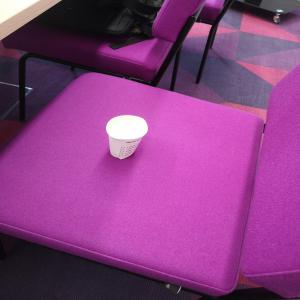Cup: (106, 116, 150, 161)
